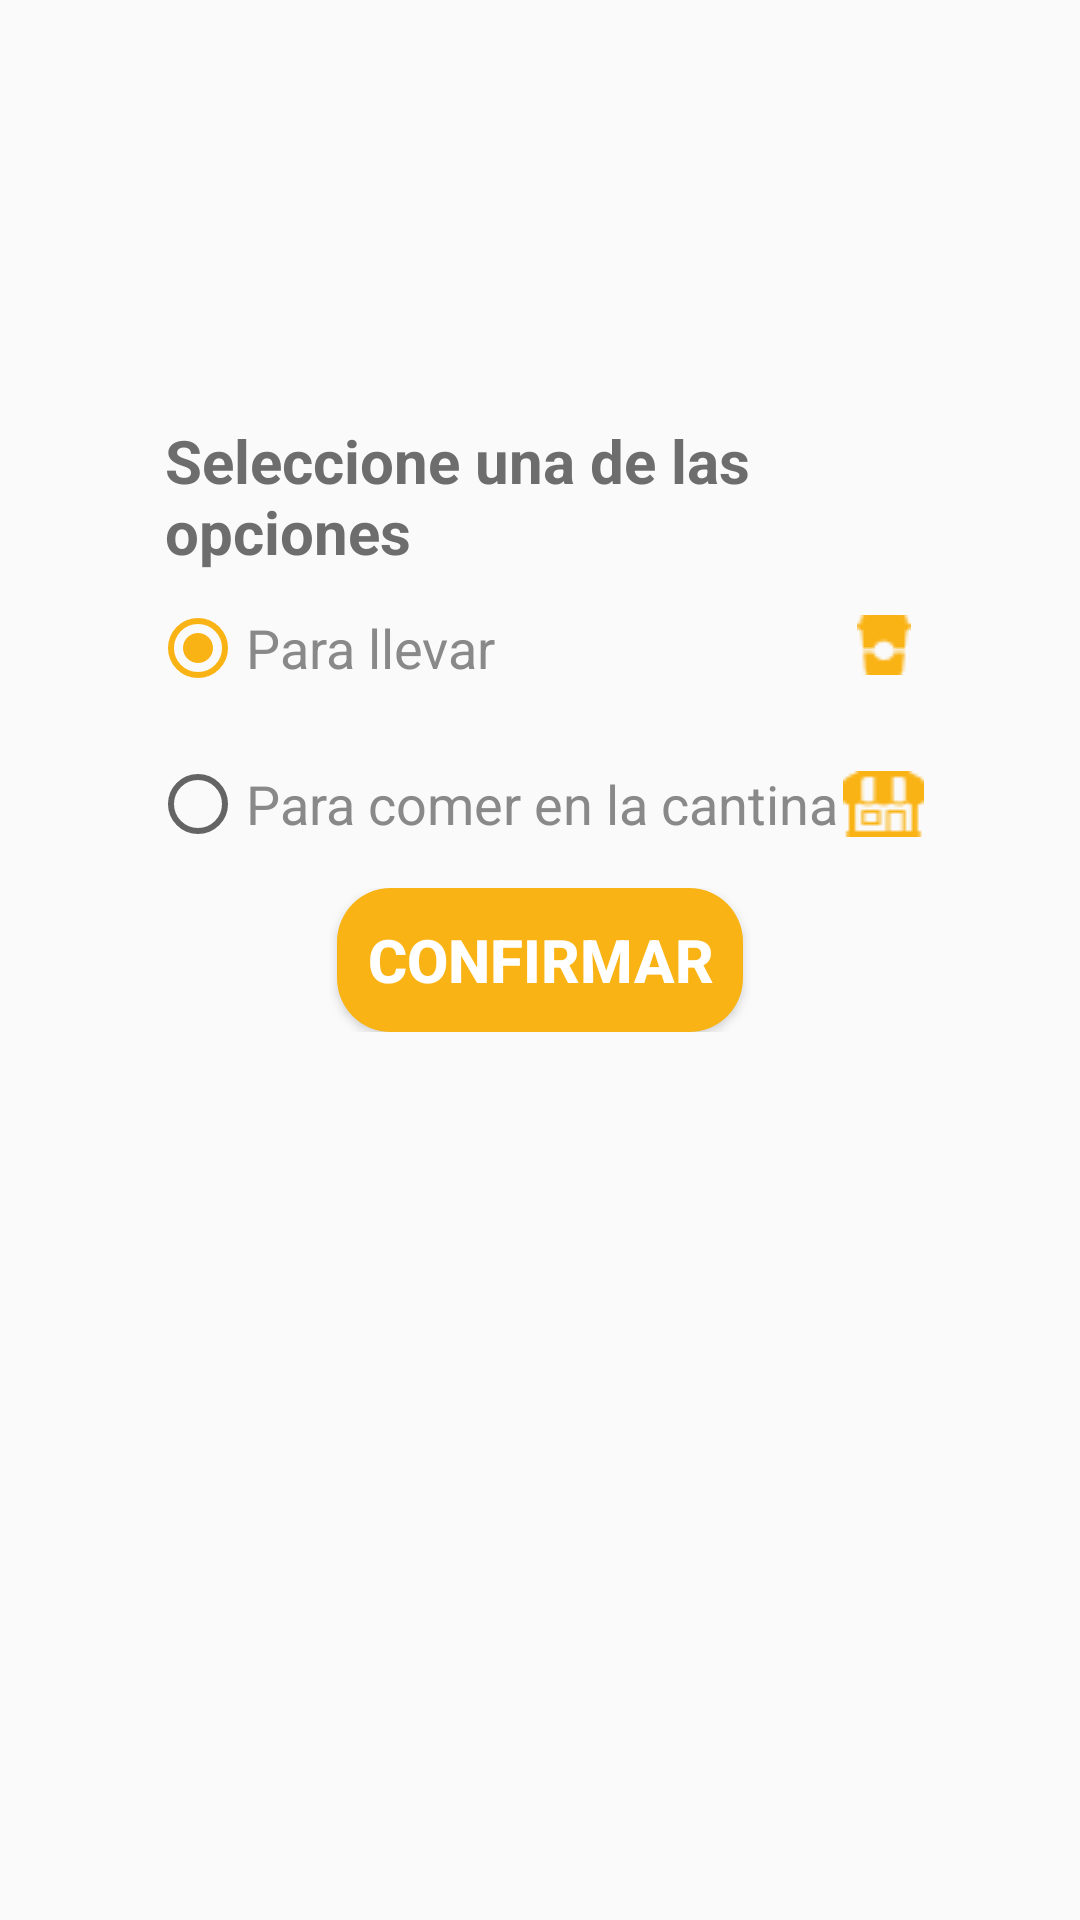

Screen size 1080px×1920px. Icon name, then its box in pixels as (x1, y1, x2, y2):
bebida: (857, 615, 911, 675)
canteen: (843, 771, 924, 837)
